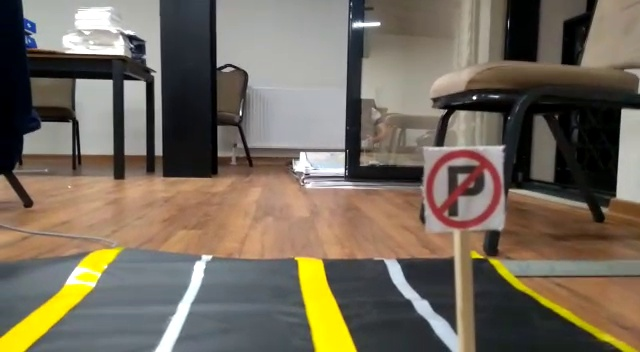park_yapilmaz: (421, 145, 506, 233)
